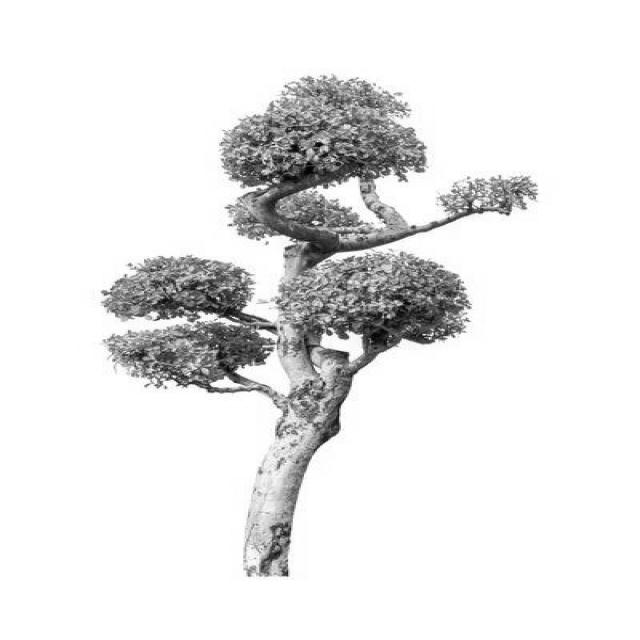Tree: (102, 75, 538, 578)
